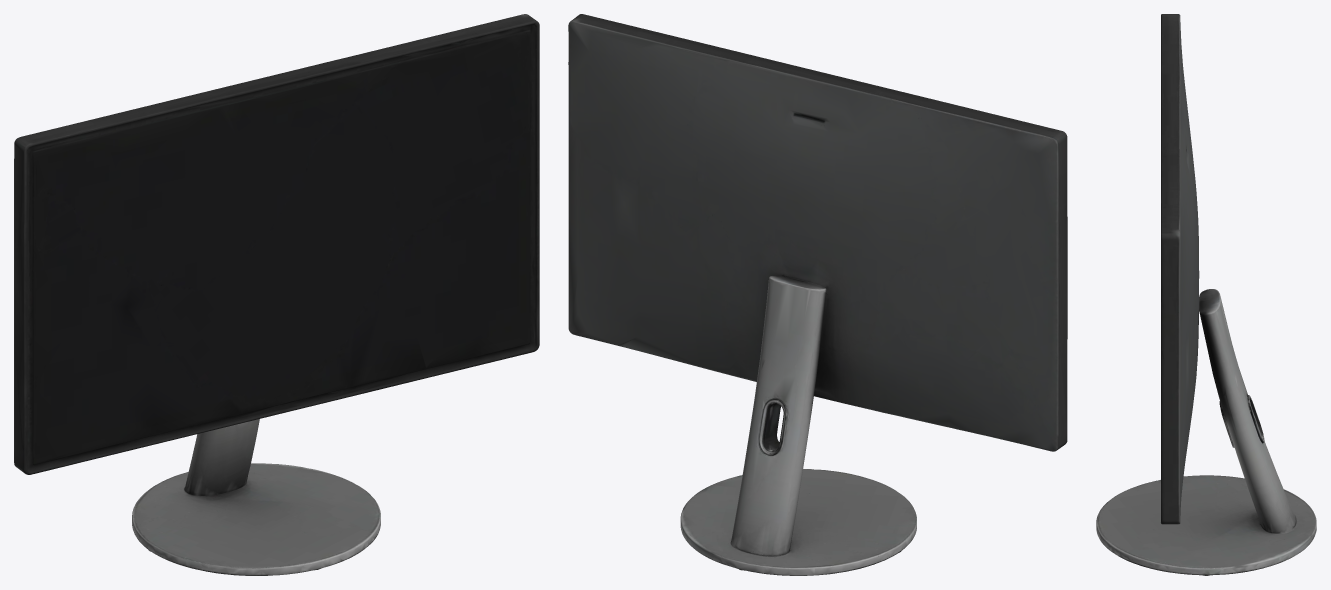
Rendered from monitor.glb.
3 renders of one model, left to right at view 1: azimuth 30°, elevation 25°; view 2: azimuth 150°, elevation 25°; view 3: azimuth 270°, elevation 25°, orthographic. The views are drawn at different scales.
Visible parts, largest first — view 1: node_0; view 2: node_0; view 3: node_0.
Boxes of the visible parts, left/top/right/bottom form: node_0: left=14, top=14, right=539, bottom=575; node_0: left=568, top=14, right=1067, bottom=575; node_0: left=1096, top=14, right=1316, bottom=575.
Size of the model in its own units: 0.9088 by 0.7821 by 0.3808.
Materials: 1 (1 with a texture image).
